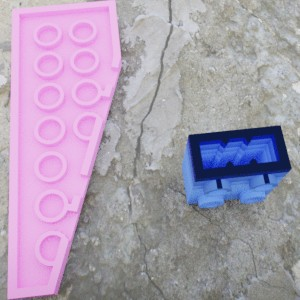lego: (7, 0, 121, 300), (181, 125, 291, 208)
